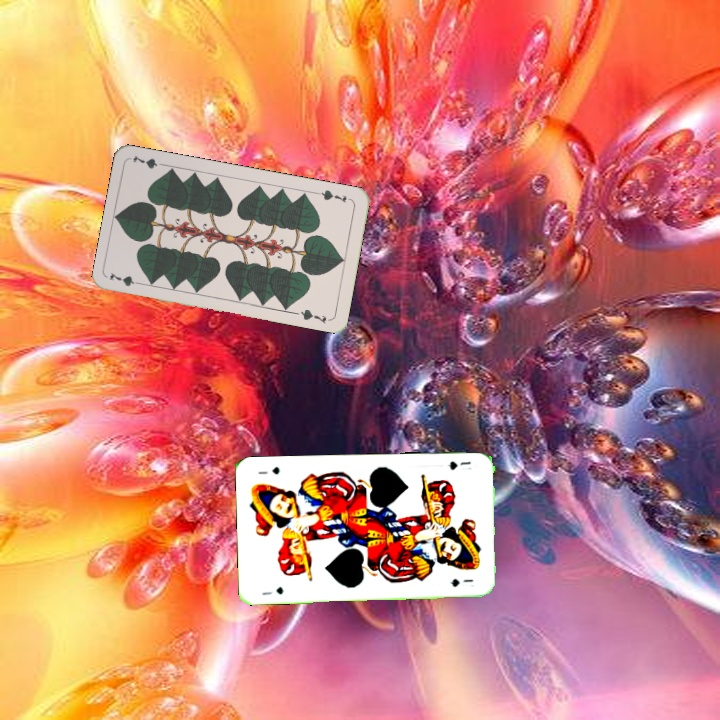G7: (106, 268, 146, 289), (313, 185, 354, 205)
GU: (444, 457, 473, 472), (258, 582, 286, 597)
